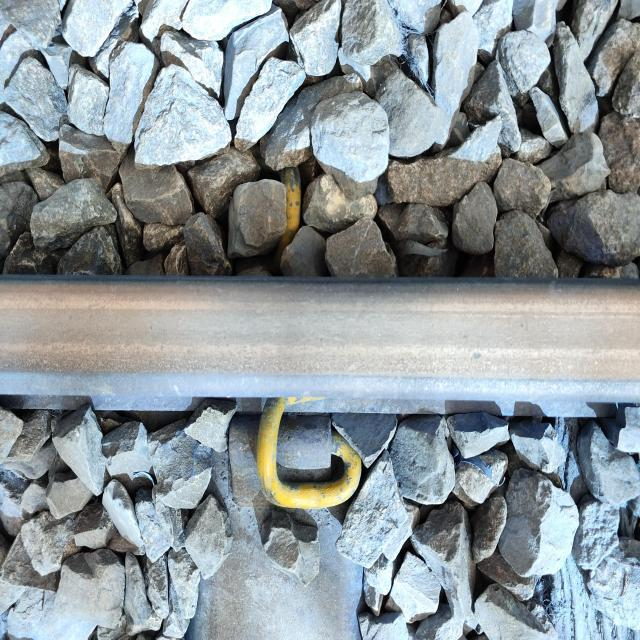Good Fasteners: (229, 397, 361, 509), (277, 167, 301, 261)
